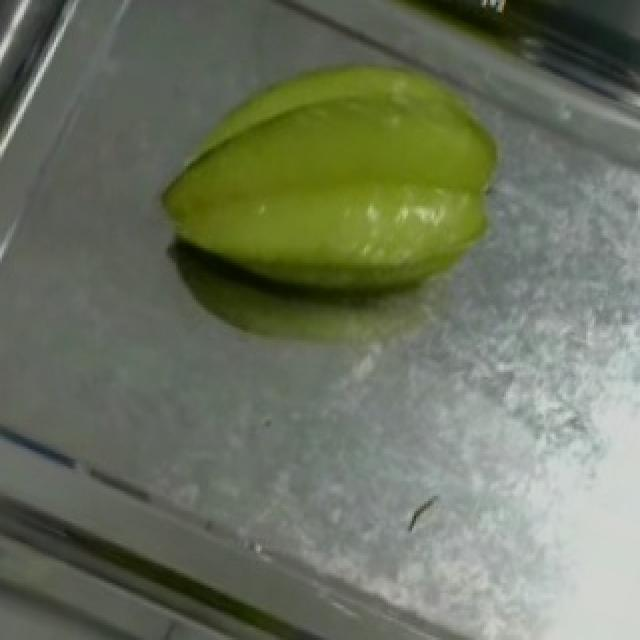fruit: (152, 0, 548, 360)
